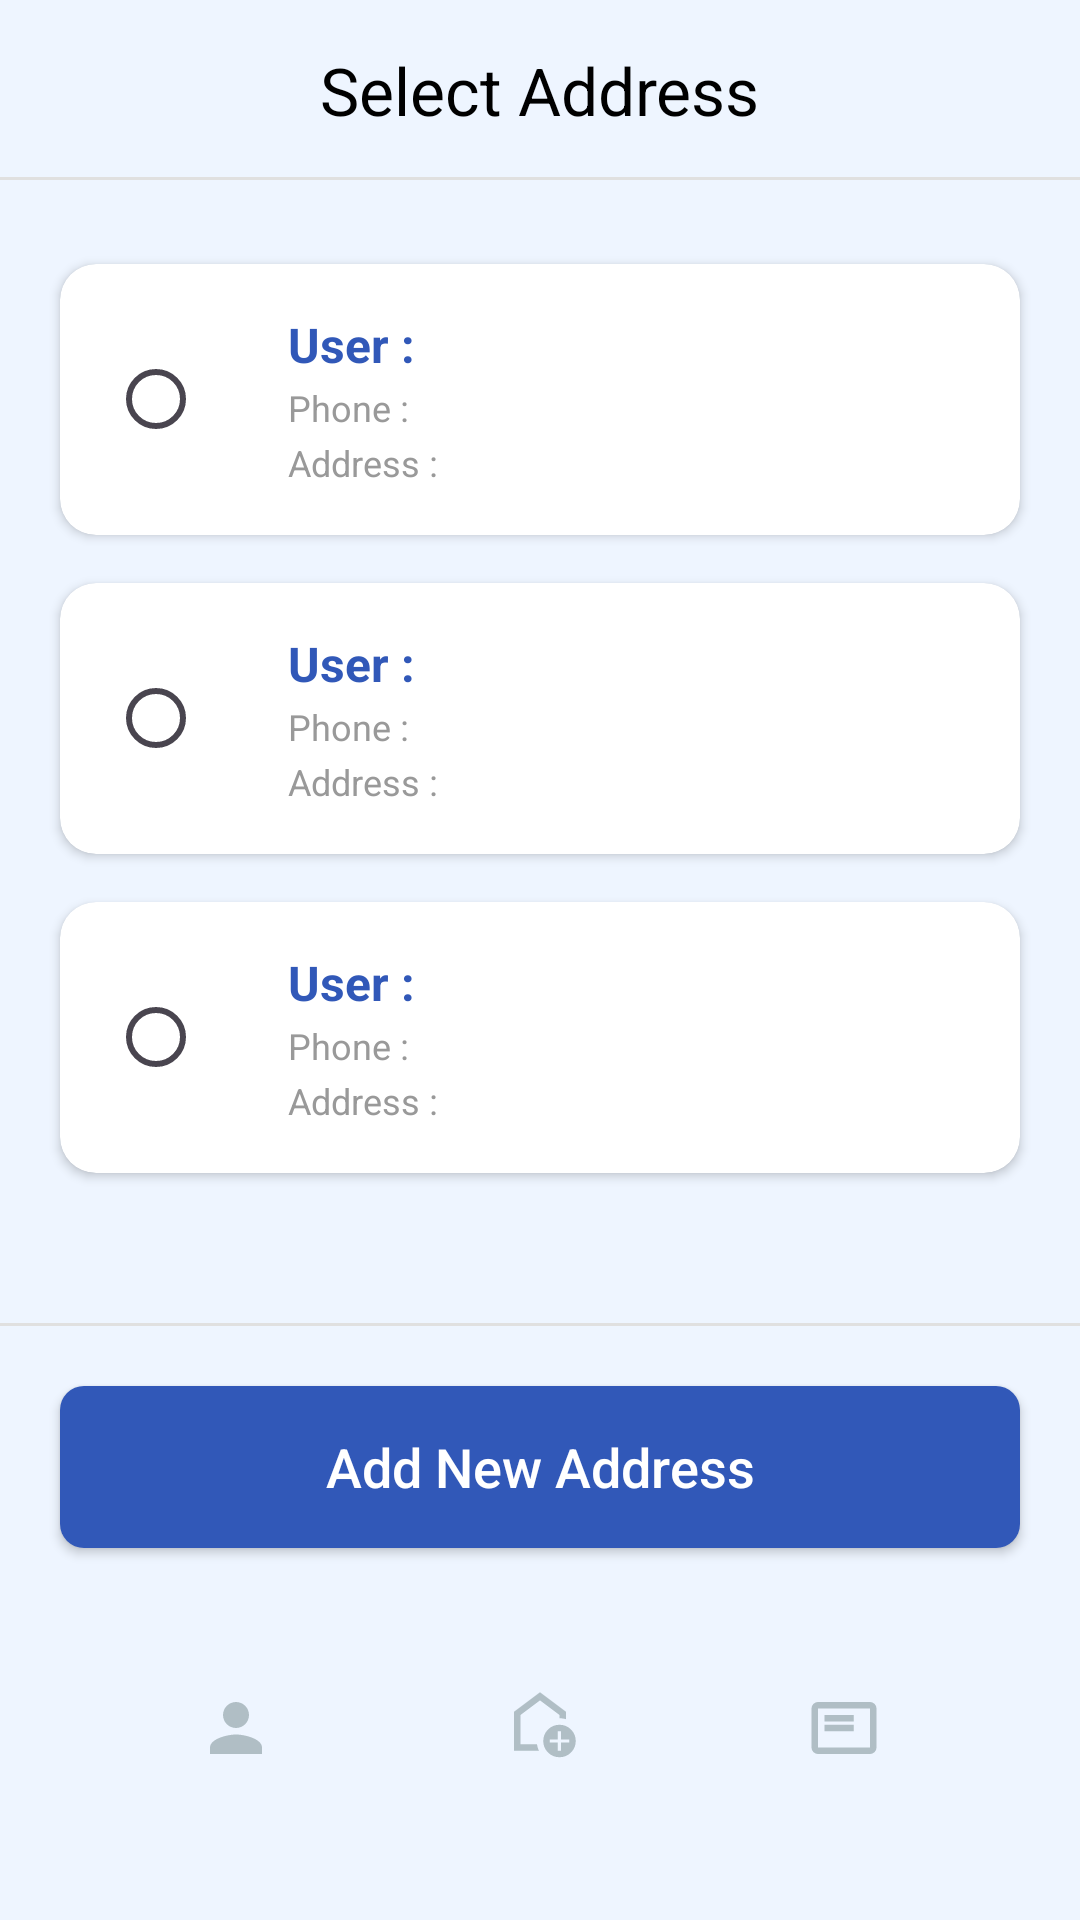

Named icons in this screenshot (1080w x 1920h) and their centers, (x=x, y=y):
home: (x=545, y=1725)
person: (x=236, y=1728)
